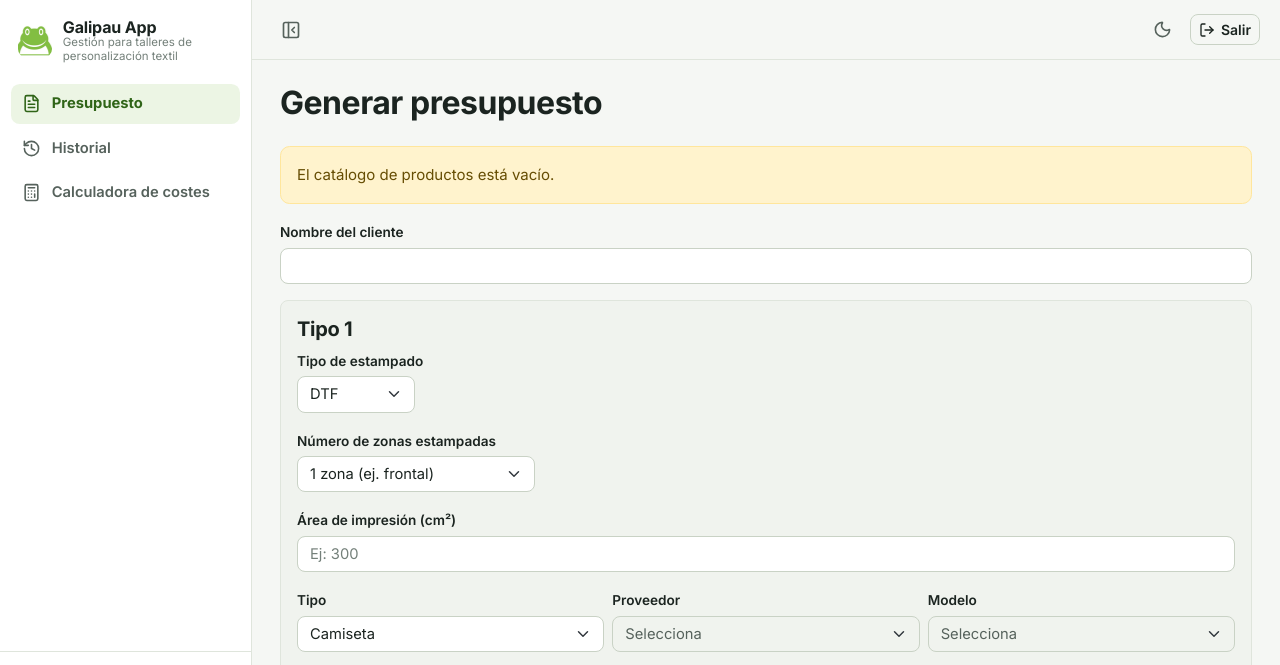
App — acceso › cerrar sesión vuelve a la pantalla de acceso
The image size is (1280, 665).
Step 1. Click the button with aria-label "Cerrar sesión" → (1225, 30), box left=1190, top=14, right=1260, bottom=45
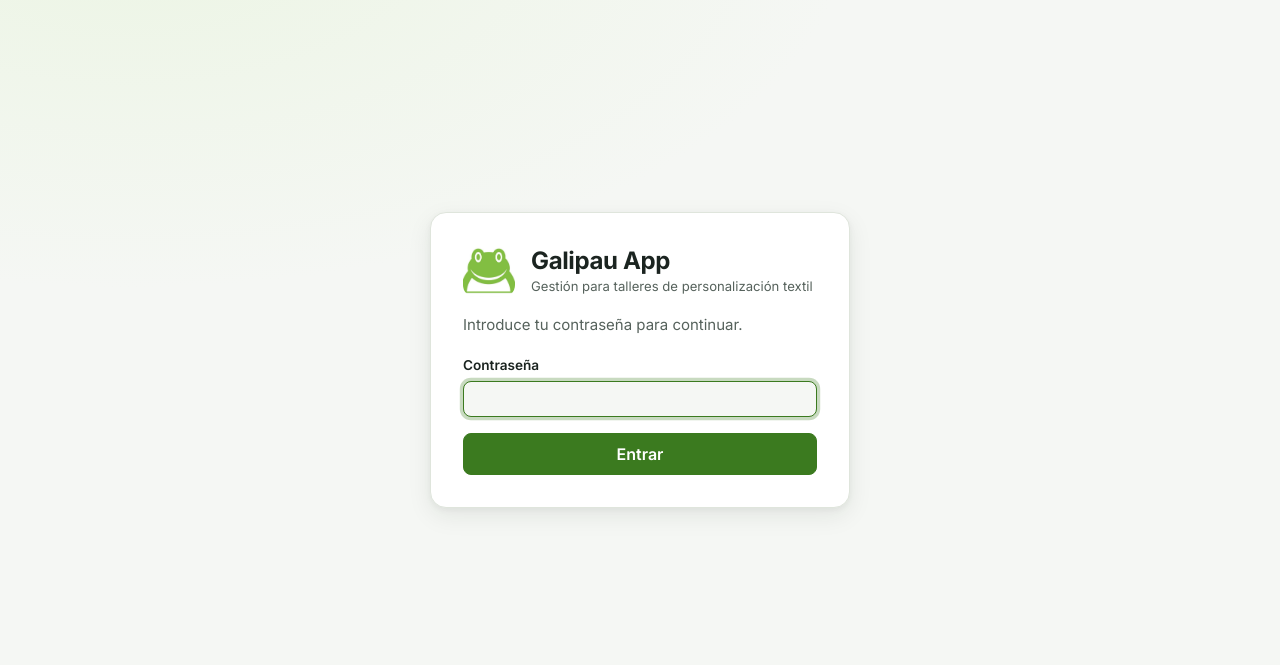
Expected: the password field labelled "Contraseña" is shown, left=463, top=380, right=817, bottom=417
